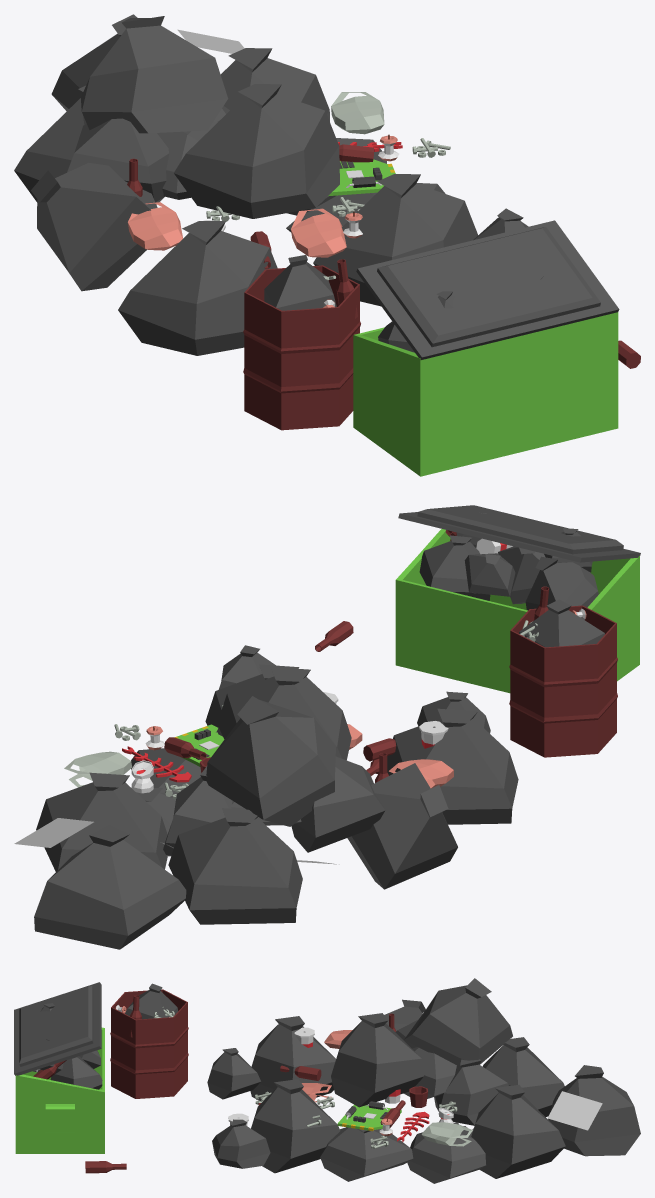
File: déchet mesh 6.fbx
The picture shows the model from 3 angles, top to bottom: view 1: azimuth 30°, elevation 25°; view 2: azimuth 150°, elevation 25°; view 3: azimuth 270°, elevation 25°; orthographic projection. The views are drawn at different scales.
Parts seen in each view (by area): view 1: entrepot dechets 6.007; view 2: entrepot dechets 6.007; view 3: entrepot dechets 6.007.
Boxes of the visible parts, box(x1,y1,x2,y2) form: entrepot dechets 6.007: box(14, 14, 640, 476); entrepot dechets 6.007: box(14, 505, 640, 949); entrepot dechets 6.007: box(14, 978, 640, 1183).
Bounding box in the file's own units: 668 × 326 × 1410.
